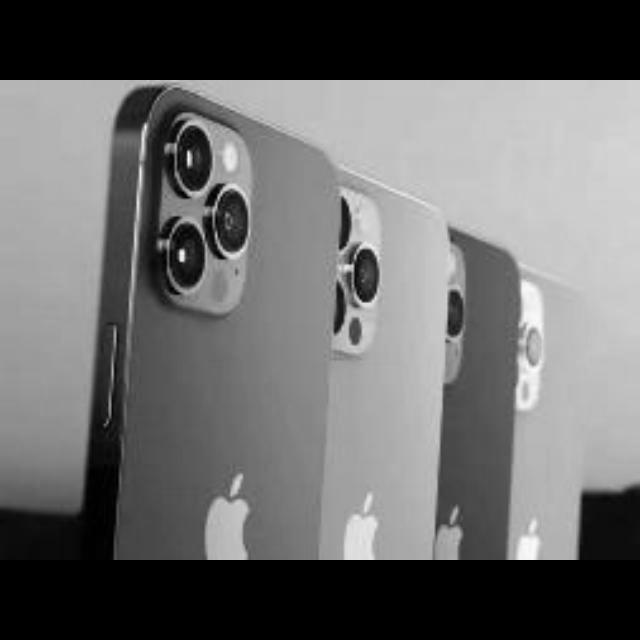fake: (74, 80, 354, 558)
